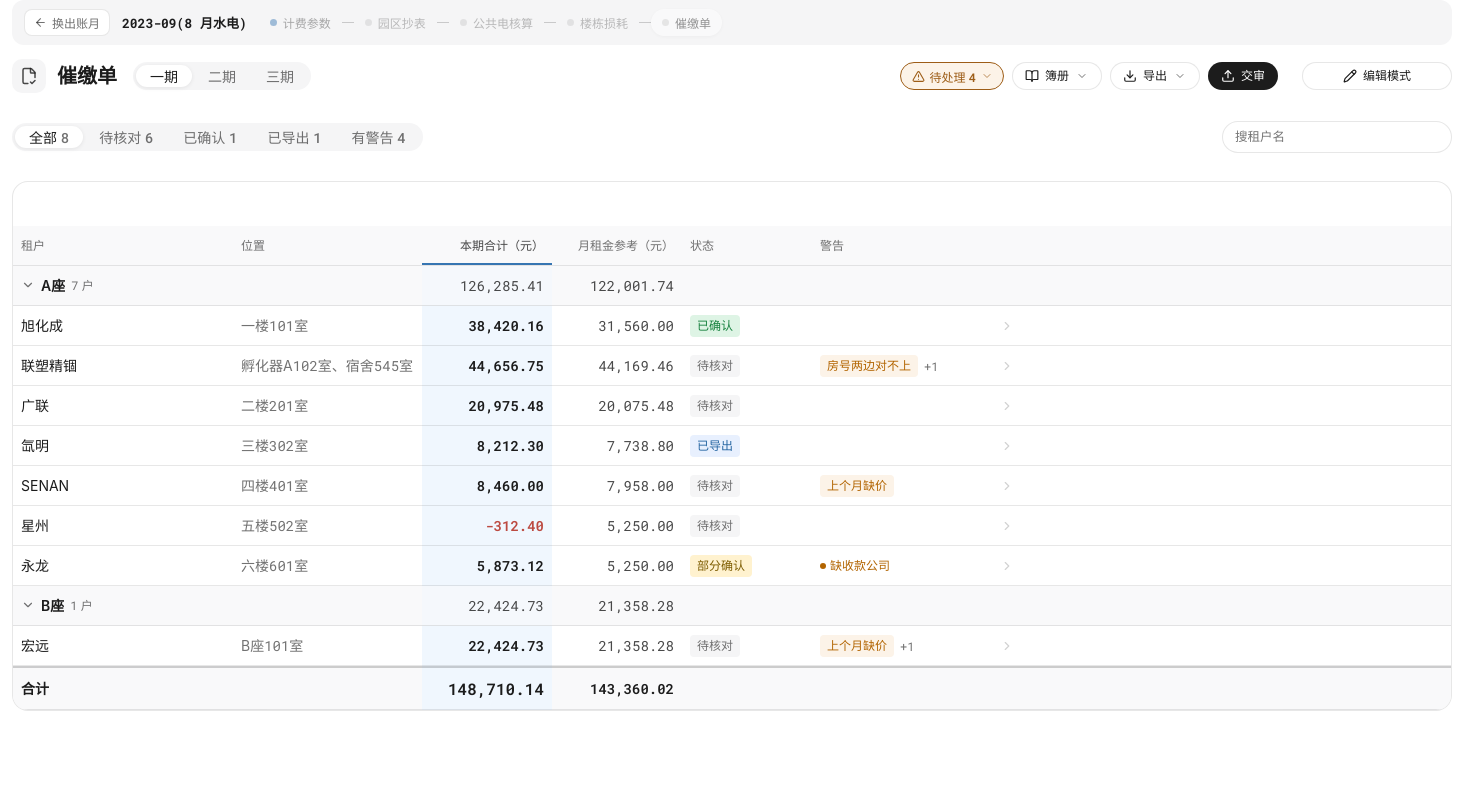
Test: P4-D3 表格列、警告写类别、分组行(画布 05-A) › 分组行写户数 + 两列小计,点它收起、再点展开;另一组不受影响;收起入口是 <button aria-expanded>
Expected: the text "A座" is shown, [41,274,65,294]
Expected: the text "7 户" is shown, [71,276,94,293]
Click the row with class "bn-band" showing "A座 7 户 126,285.41 122,001.74" at (732, 286), box [13,266,1451,306]
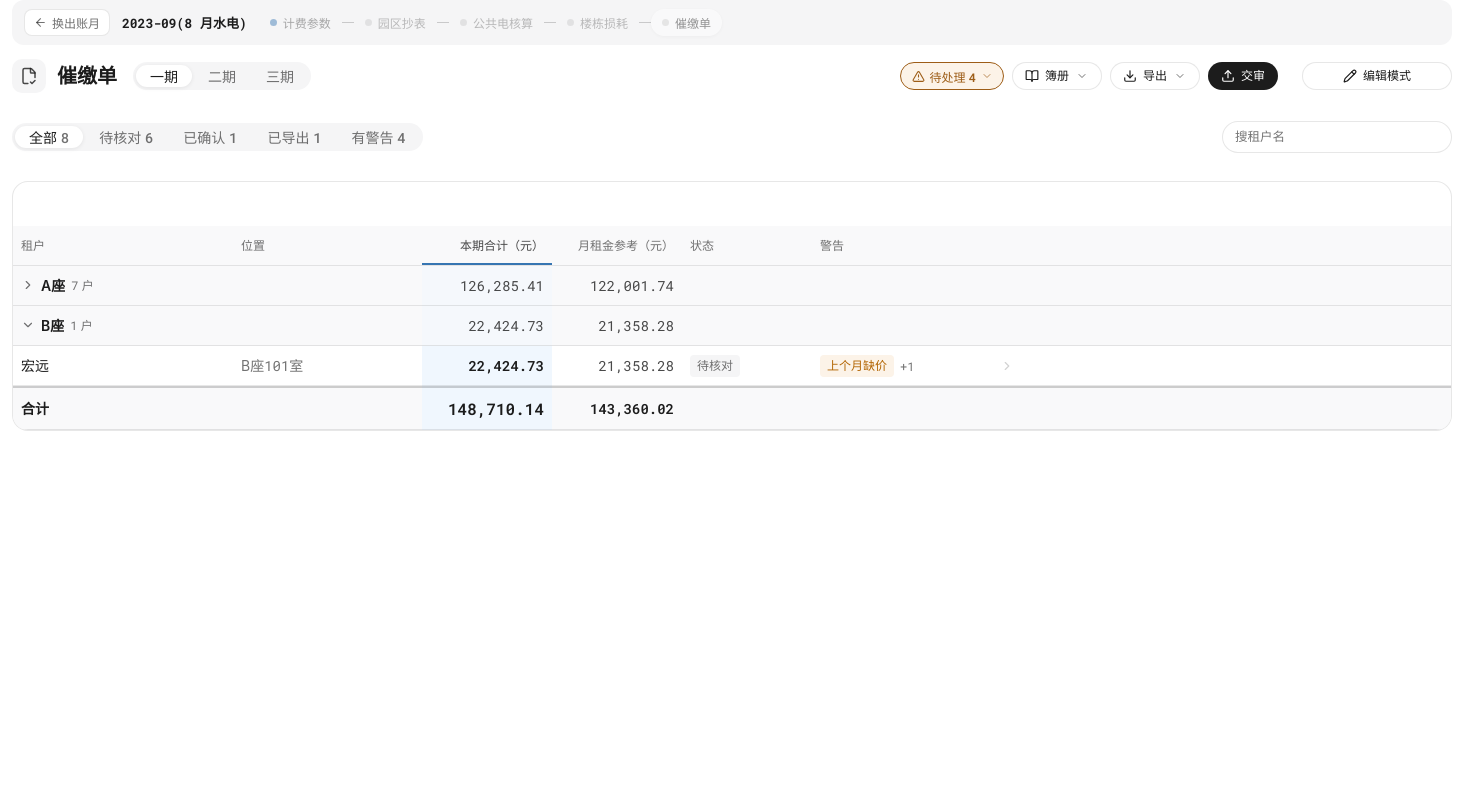
Click the row with class "bn-band" showing "A座 7 户 126,285.41 122,001.74" at (732, 286), box [13,266,1451,306]
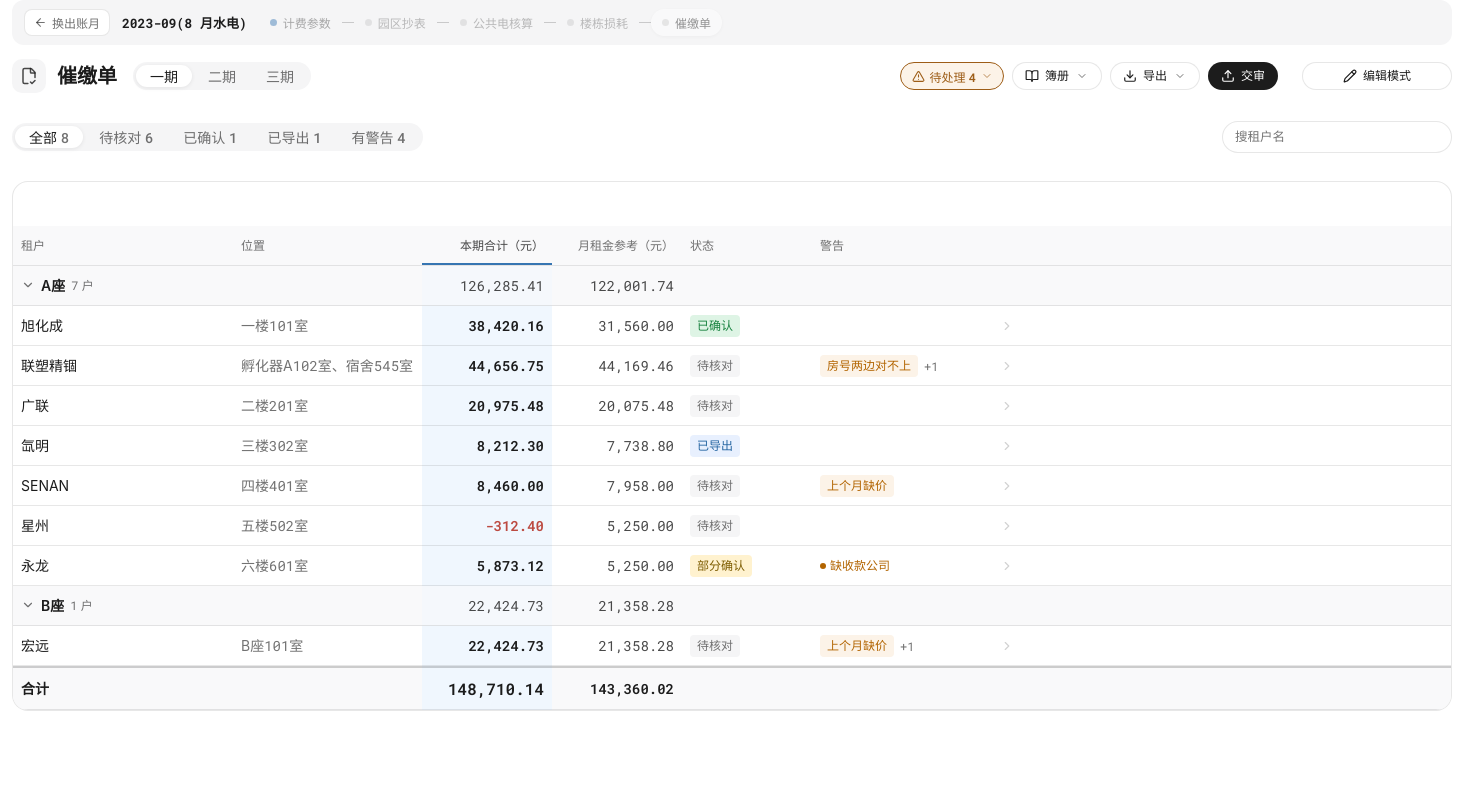
Expected: the button with class "bn-gbtn" is expanded
Click the button with class "bn-gbtn" showing "A座 7 户" at (57, 284), box [21,274,94,294]
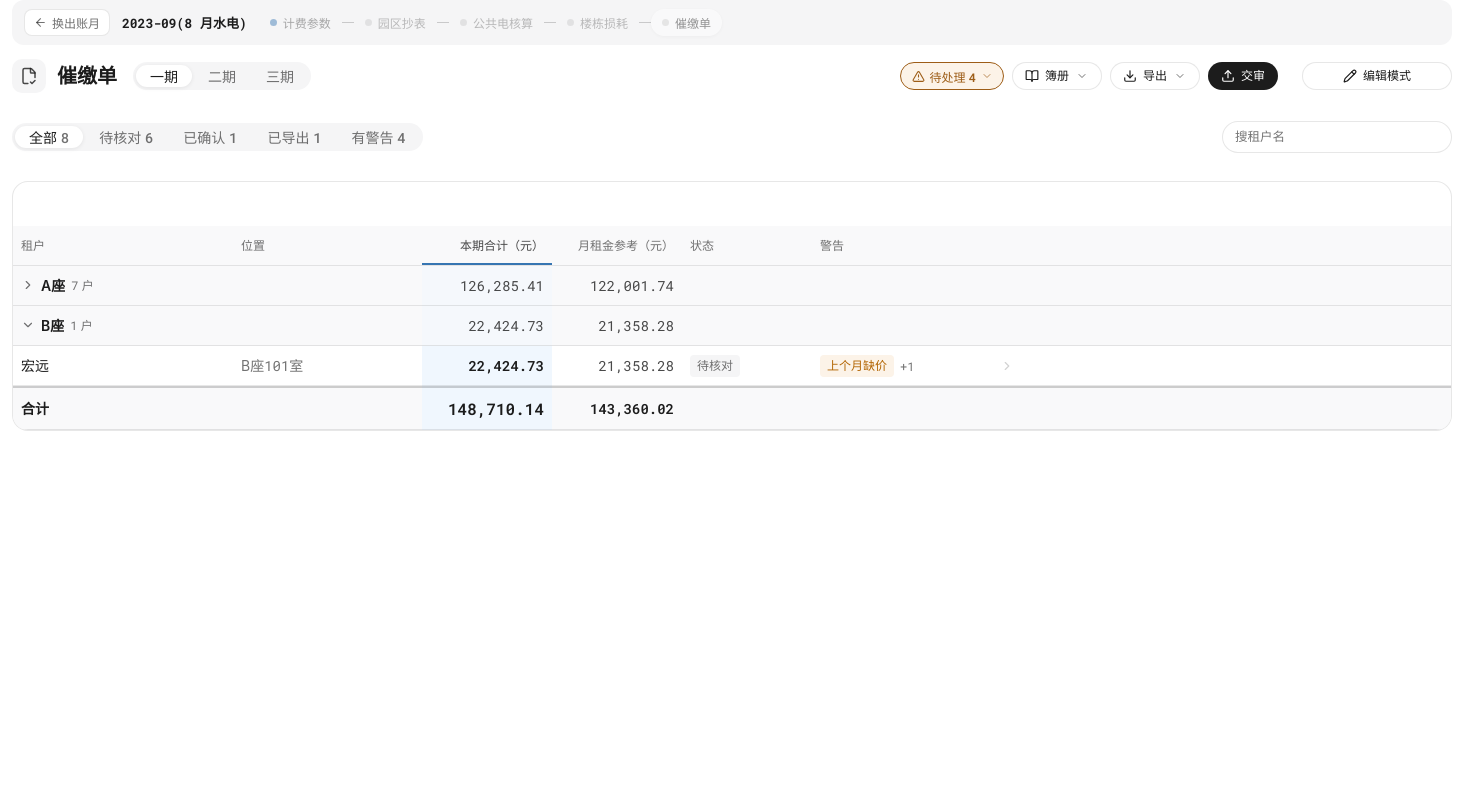
Expected: the button with class "bn-gbtn" is collapsed, [21,274,94,294]
